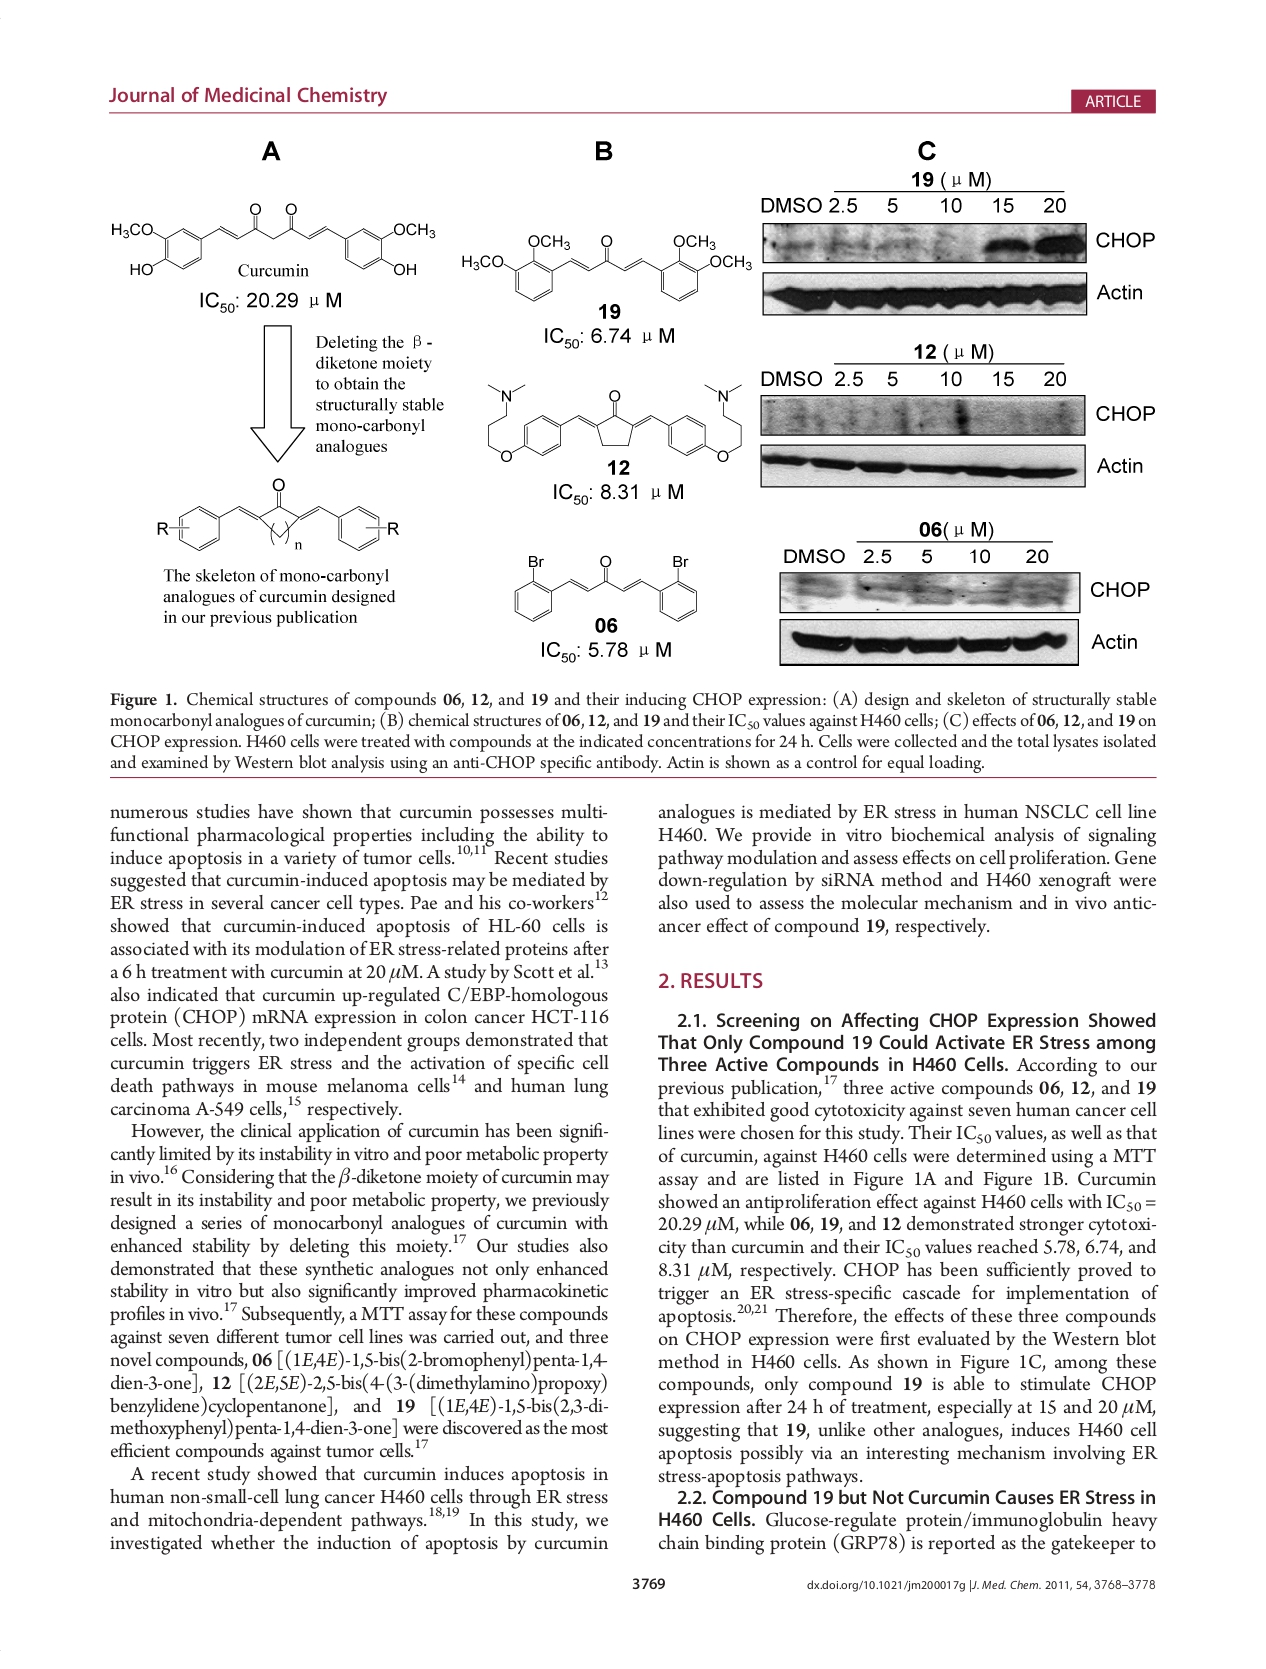exist_molecular: (105, 199, 438, 281), (479, 375, 747, 464), (457, 226, 755, 305), (152, 473, 402, 557), (505, 551, 699, 624)
